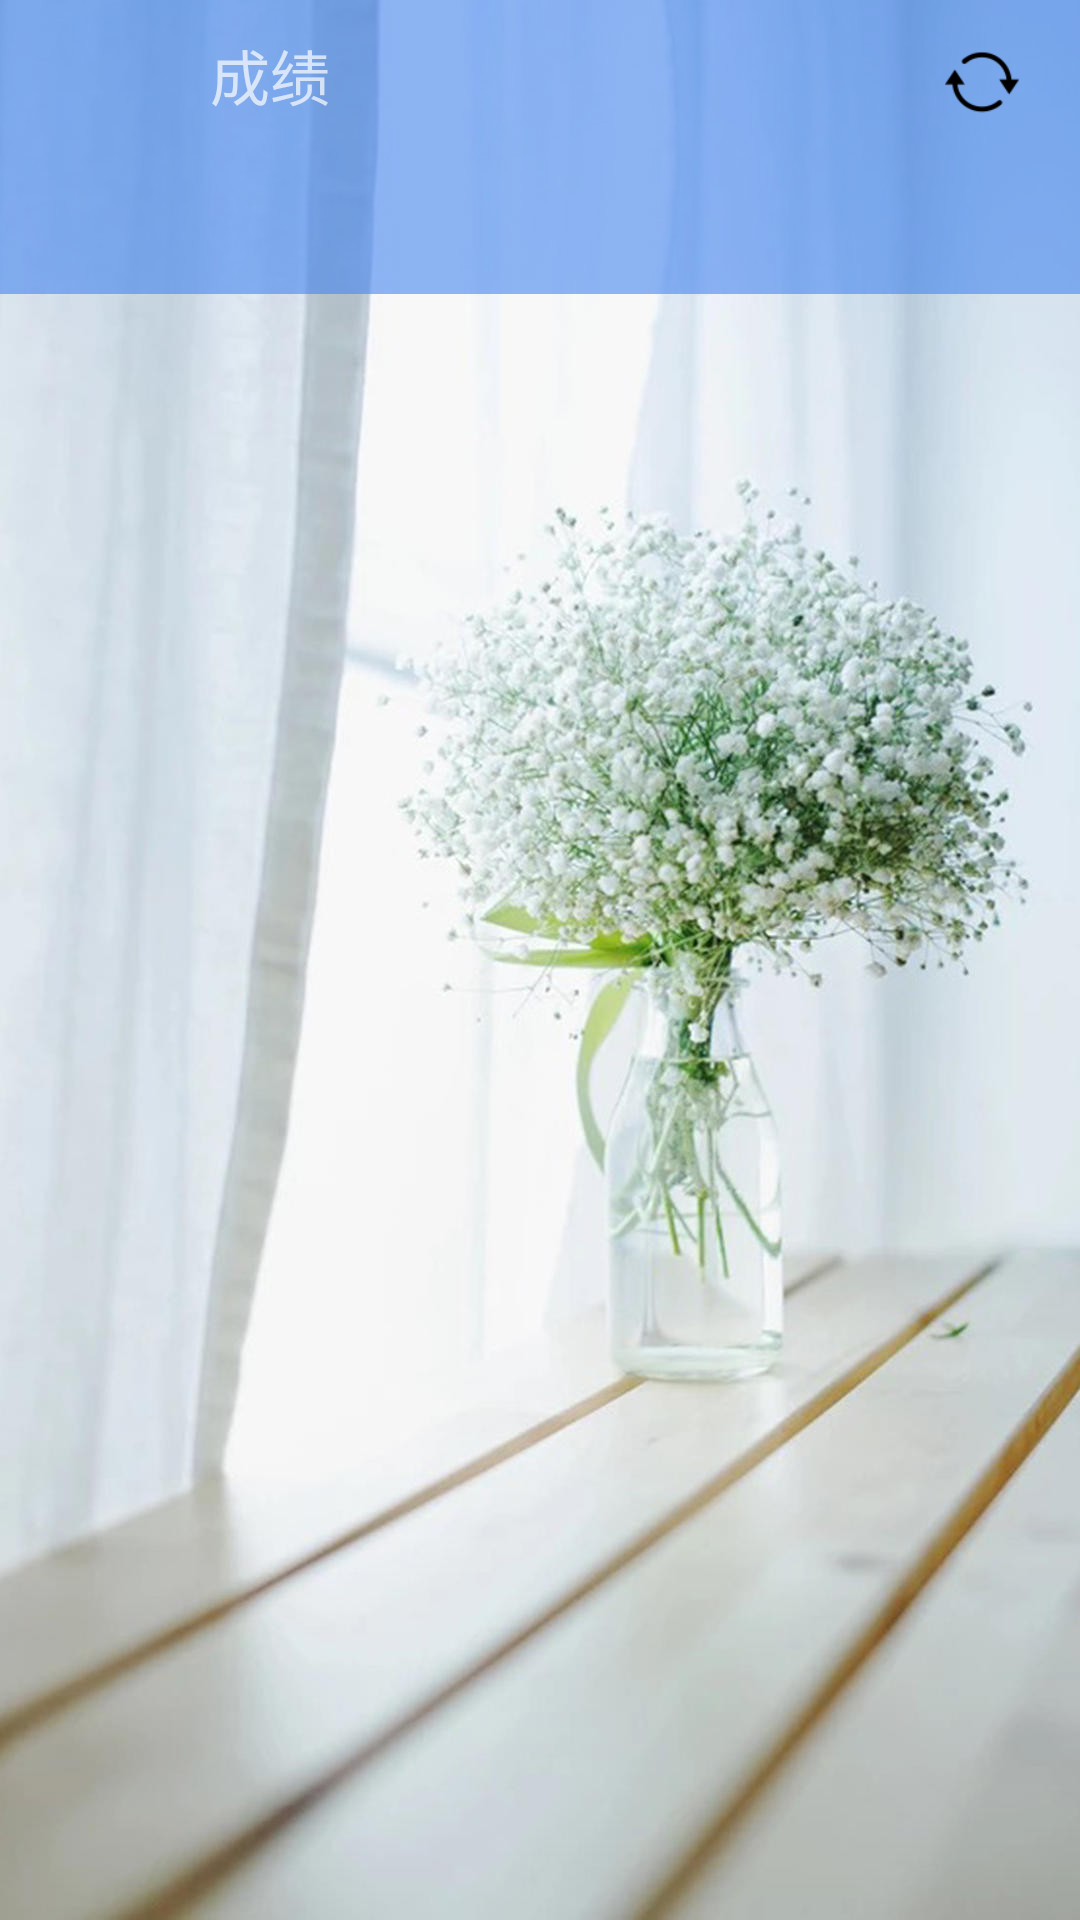

Icon bounding boxes for this 1080px x 1920px phone screenshot, format (x1, y1, x2, y2):
top refresh: (945, 52, 1019, 113)
